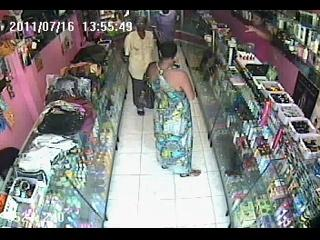Normal: (145, 42, 200, 177), (124, 16, 160, 117), (150, 10, 179, 48)
